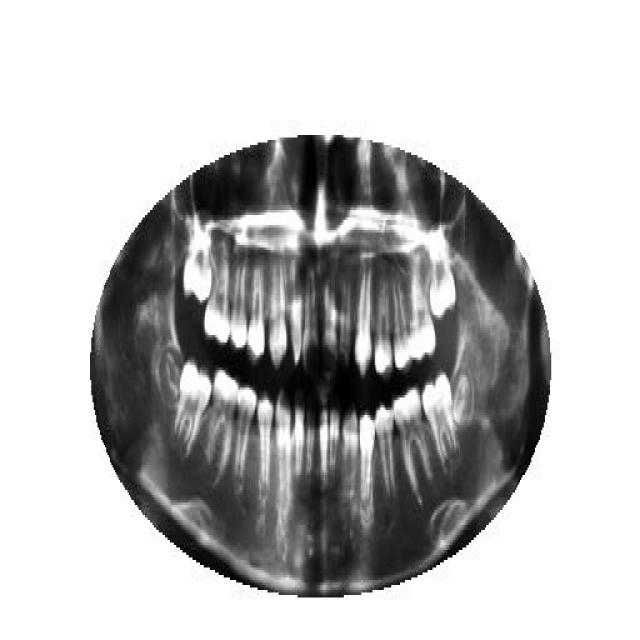Impacted Tooth: (184, 223, 212, 305), (429, 242, 456, 318), (452, 362, 476, 432)
